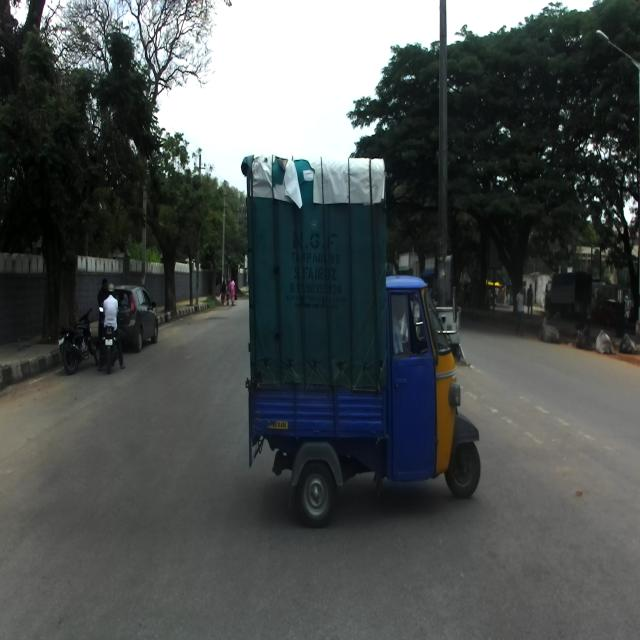truck ahead at: (243, 147, 483, 532)
